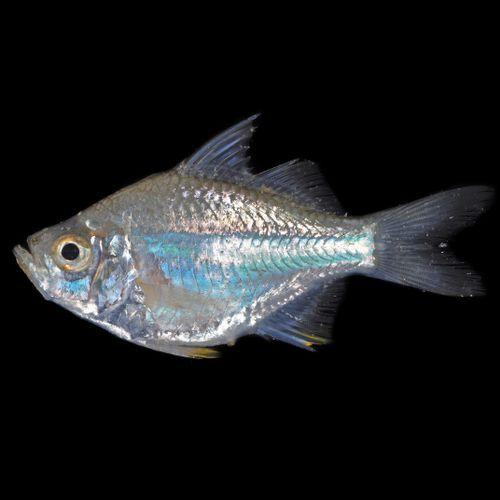Glass Perchlet: (18, 109, 489, 364)
